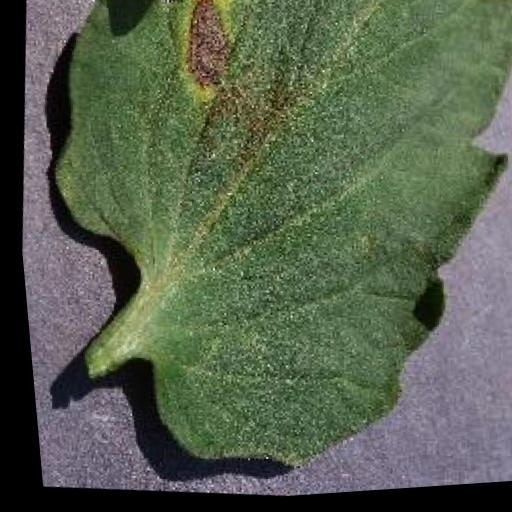Early Blight: (8, 0, 512, 506)
